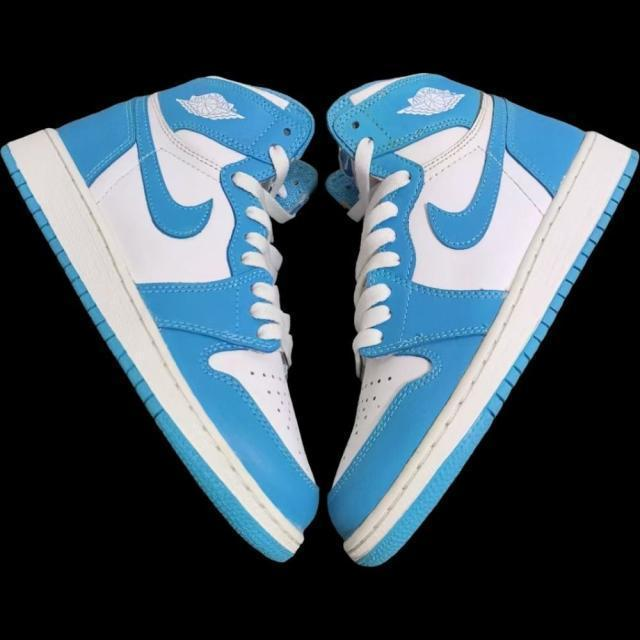nike original jordan 1: (1, 72, 326, 565), (323, 70, 640, 564)
